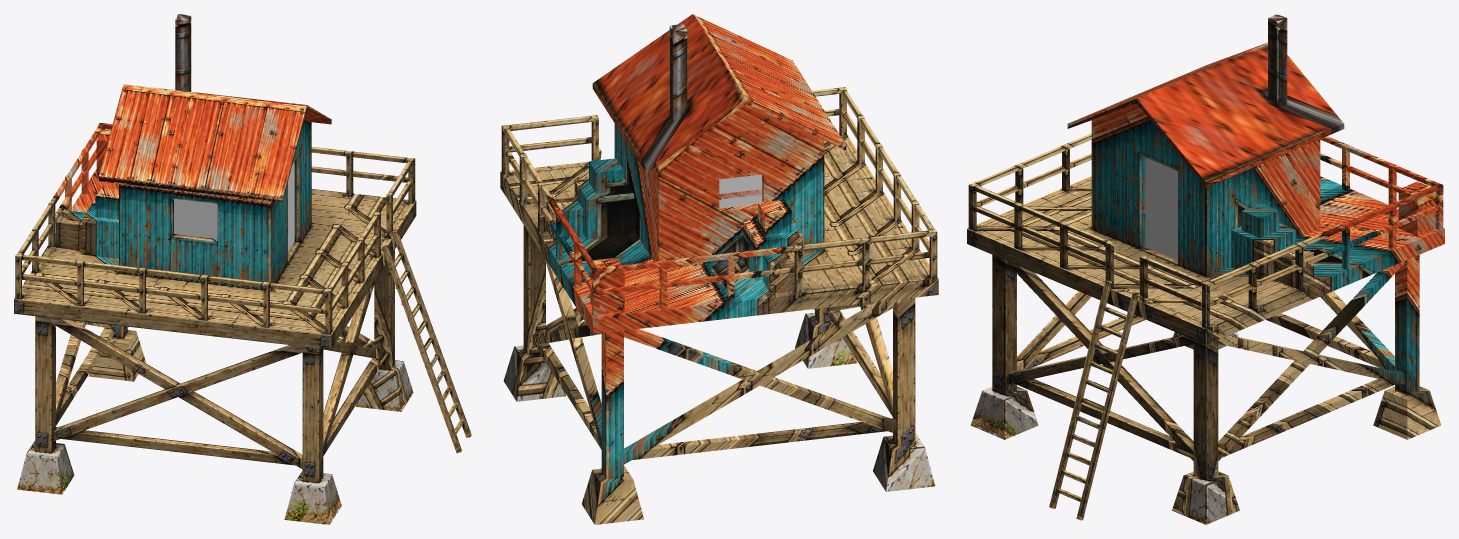
Rendered from tower.glb.
The picture shows the model from 3 angles, left to right: view 1: azimuth 30°, elevation 25°; view 2: azimuth 150°, elevation 25°; view 3: azimuth 270°, elevation 25°; orthographic projection. The views are drawn at different scales.
Parts seen in each view (by area): view 1: tower_game, inside_hut; view 2: tower_game, inside_hut; view 3: tower_game, inside_hut.
Part boxes in pixels (<box>): tower_game: <box>14,14,471,524</box>; inside_hut: <box>174,162,294,251</box>; tower_game: <box>500,14,938,524</box>; inside_hut: <box>719,174,761,208</box>; tower_game: <box>967,14,1444,524</box>; inside_hut: <box>1145,157,1177,260</box>.
Size of the model in its own units: 9.9 by 9.35 by 9.9.
1 material, 1 textured.
